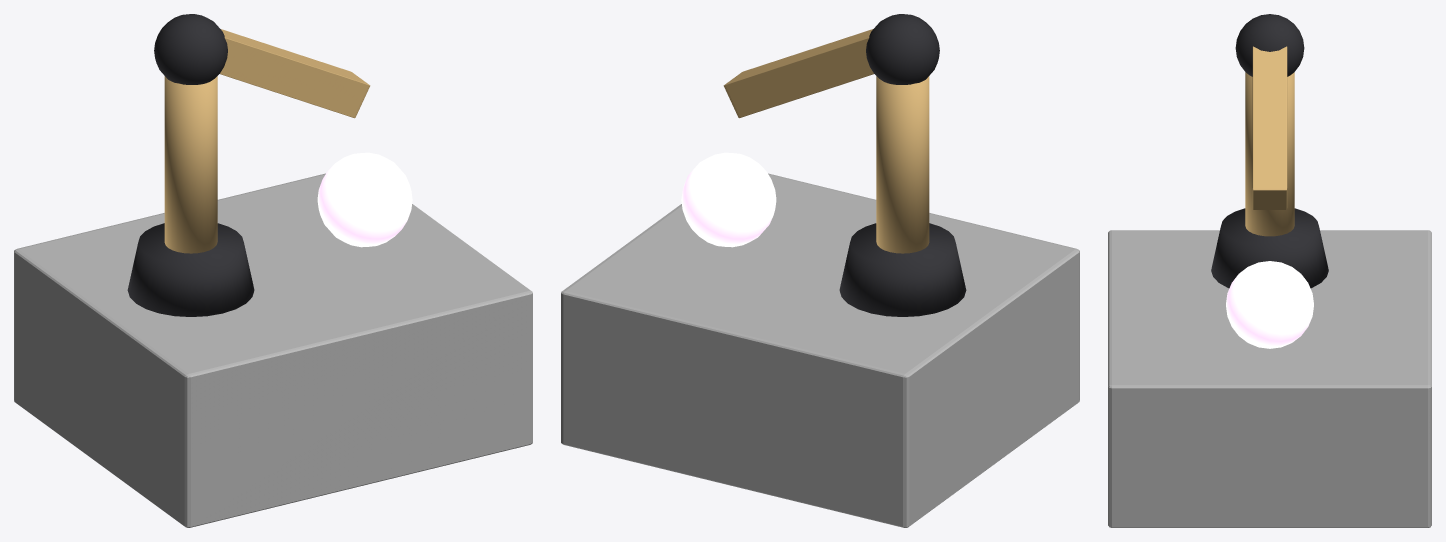
The model's file is assembler.glb.
3 views of the same model, side by side, from view 1: azimuth 30°, elevation 25°; view 2: azimuth 150°, elevation 25°; view 3: azimuth 270°, elevation 25° (orthographic). The views are drawn at different scales.
Parts seen in each view (by area): view 1: machines/assembler; view 2: machines/assembler; view 3: machines/assembler.
Boxes of the visible parts, x1,y1,x2,y2 form: machines/assembler: [14, 14, 532, 527]; machines/assembler: [561, 14, 1079, 527]; machines/assembler: [1108, 14, 1431, 527].
Bounding box in the file's own units: 0.76 × 0.89 × 0.66.
